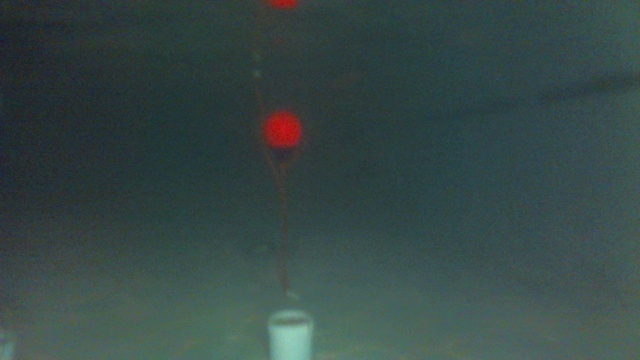buoy_red: (262, 111, 301, 164)
